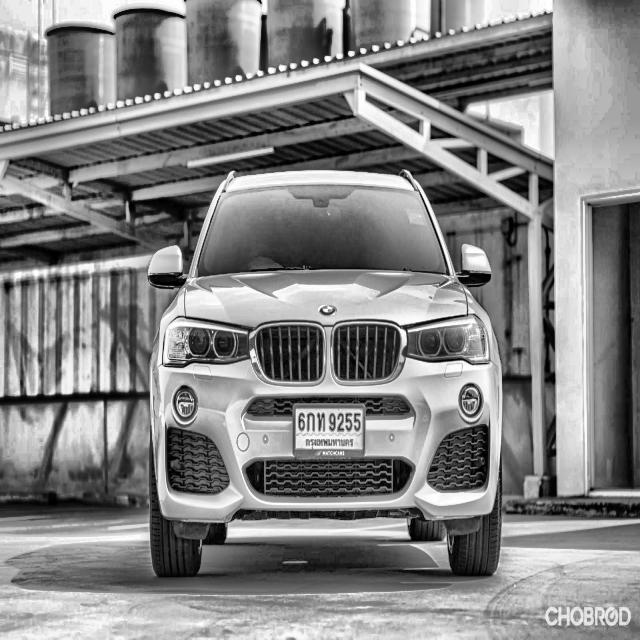license-plate: (288, 397, 369, 461)
